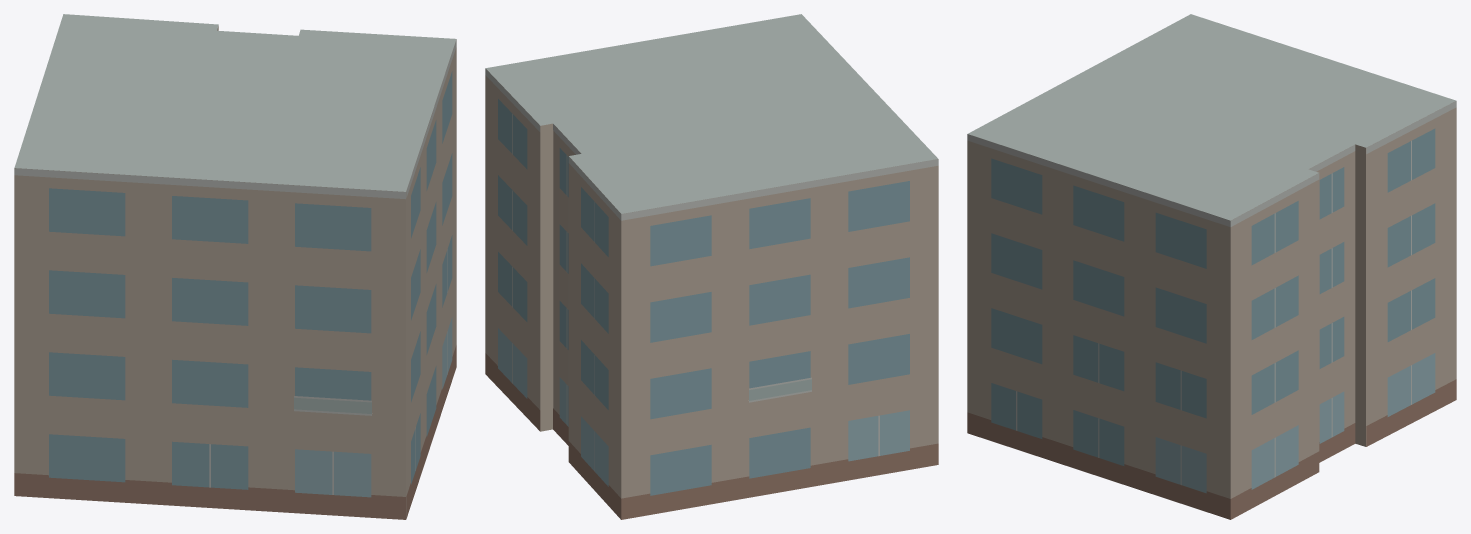
File: survey-upis-32526310.glb
3 renders of one model, left to right at view 1: azimuth 30°, elevation 25°; view 2: azimuth 150°, elevation 25°; view 3: azimuth 270°, elevation 25°, orthographic. The views are drawn at different scales.
Visible parts, largest first — view 1: survey-upis-32526310.tmp; view 2: survey-upis-32526310.tmp; view 3: survey-upis-32526310.tmp.
Boxes of the visible parts, bbox=[...] form: survey-upis-32526310.tmp: bbox=[14, 14, 456, 519]; survey-upis-32526310.tmp: bbox=[485, 14, 938, 519]; survey-upis-32526310.tmp: bbox=[967, 14, 1456, 519].
Bounding box in the file's own units: 16.33 × 11.02 × 16.33.
